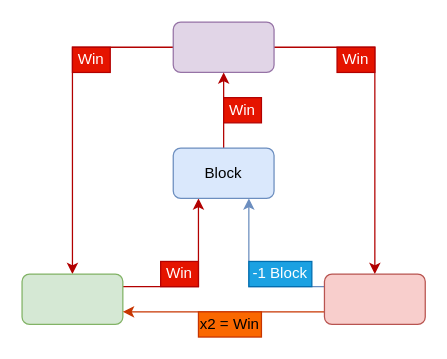
This 447x359 diagram has some shape labels left out. The shapes that lost their labels are listed below. From the top down, each one's centre as x and y in pixels, then its label:
the point at 223,46: Dragon Punch
the point at 72,298: Grab
the point at 374,298: Attack
